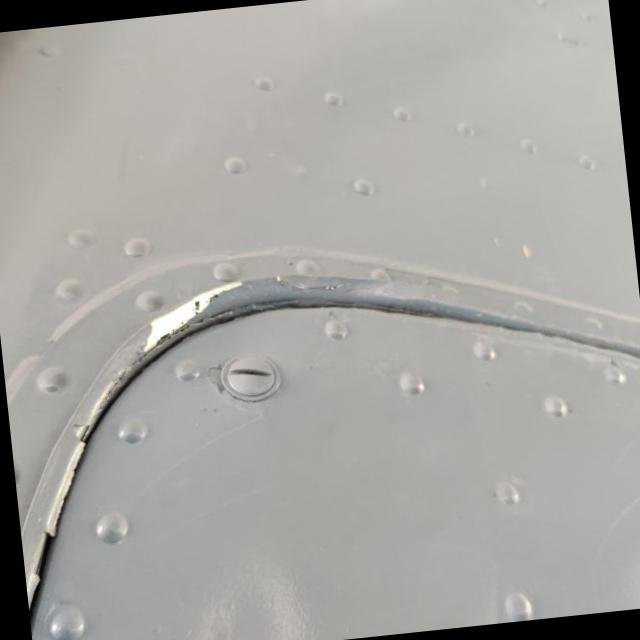Paint-off: (141, 283, 241, 352)
